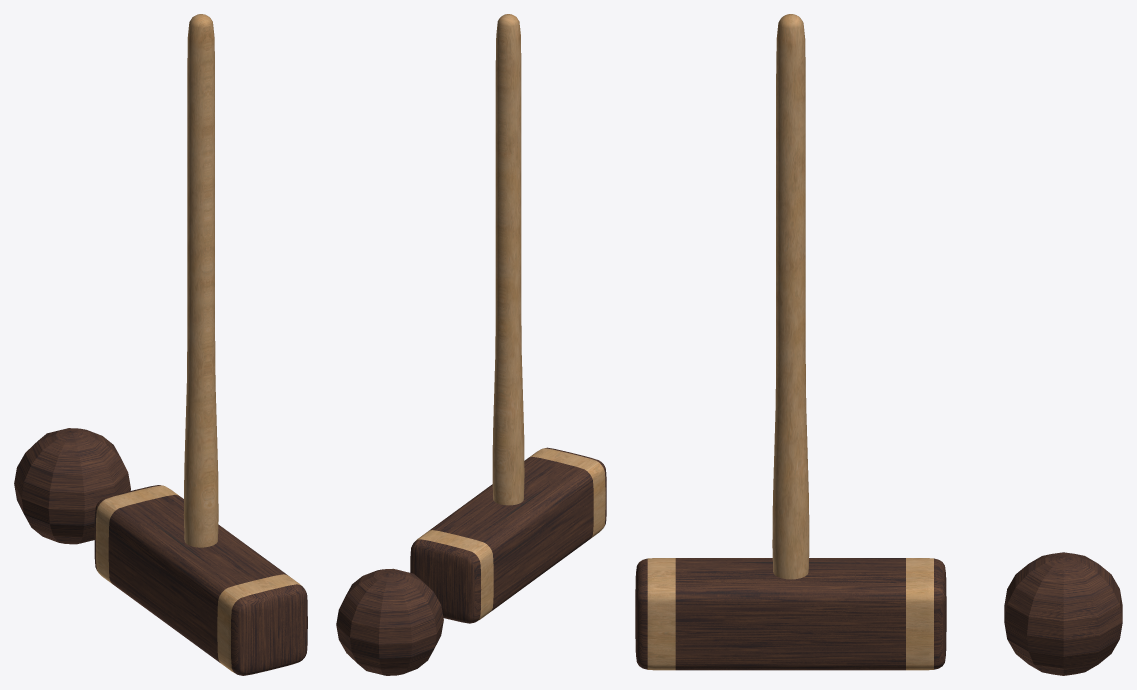
The model's file is CroquetMallet.obj.
The picture shows the model from 3 angles, left to right: view 1: azimuth 30°, elevation 25°; view 2: azimuth 150°, elevation 25°; view 3: azimuth 270°, elevation 25°; orthographic projection. The views are drawn at different scales.
Parts seen in each view (by area): view 1: Mallet, Ball; view 2: Mallet, Ball; view 3: Mallet, Ball.
Part boxes in pixels (bbox=[...]): Mallet: bbox=[94, 14, 307, 675]; Ball: bbox=[14, 428, 130, 544]; Mallet: bbox=[410, 14, 606, 623]; Ball: bbox=[336, 568, 443, 675]; Mallet: bbox=[635, 14, 946, 670]; Ball: bbox=[1004, 552, 1122, 675].
Bounding box in the file's own units: 2 × 11.61 × 7.83.
Materials: 3 (3 with a texture image).
